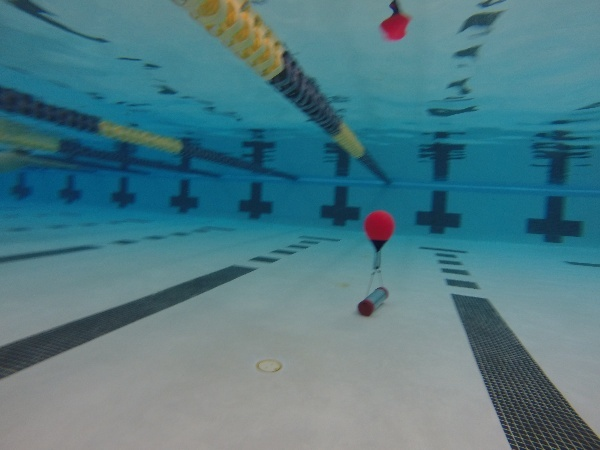buoy_red: (359, 210, 398, 252)
